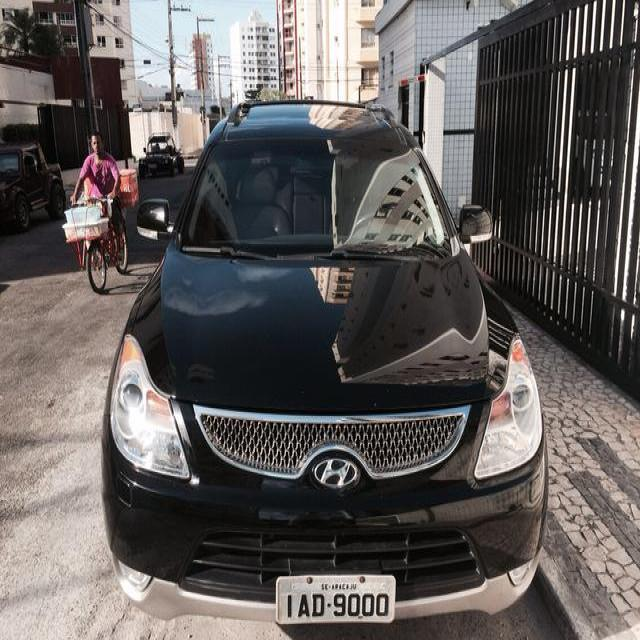Placa: (272, 572, 401, 628)
